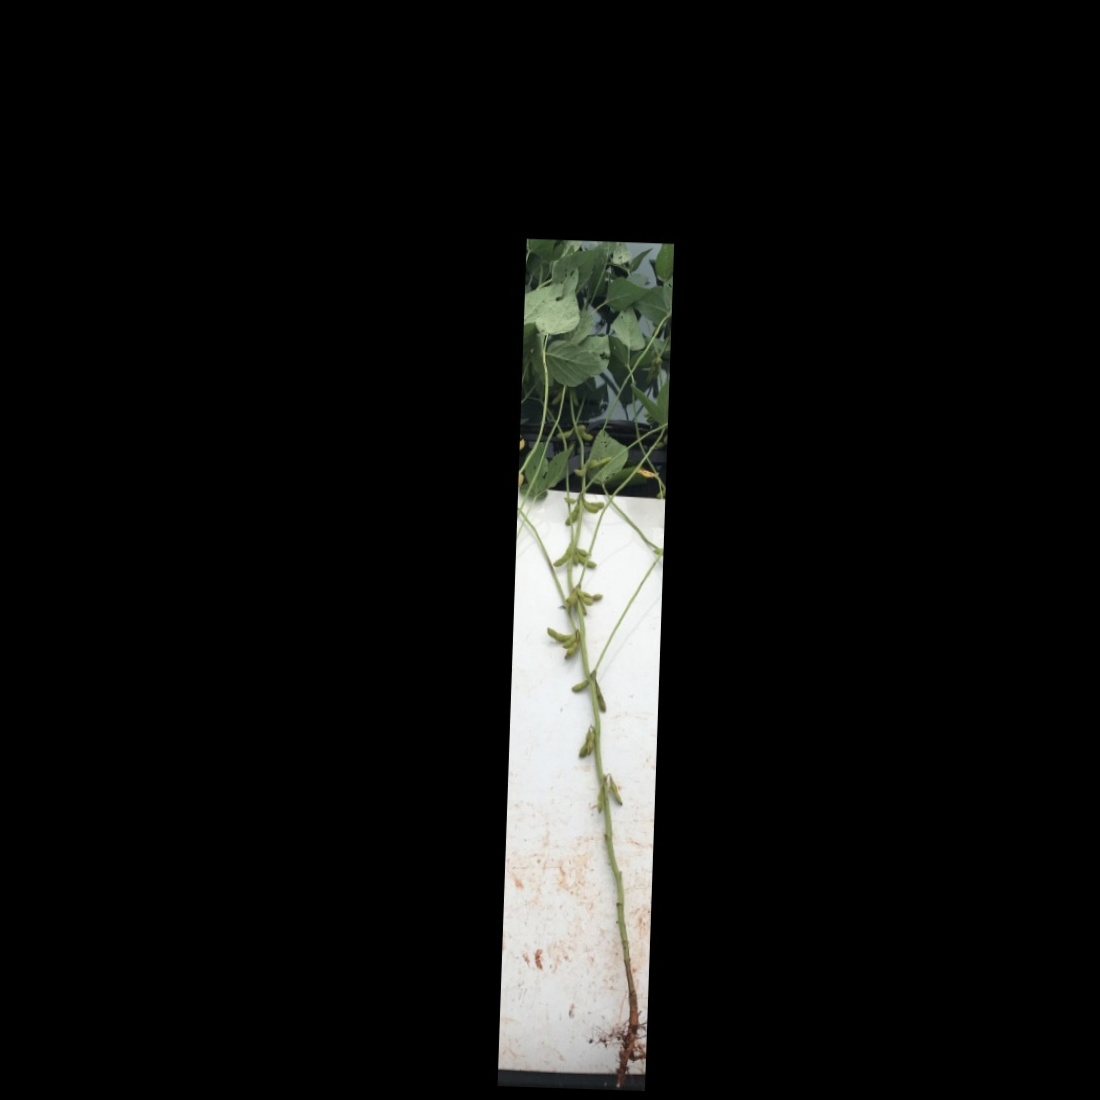pod: (548, 543, 571, 570), (564, 674, 592, 696), (607, 774, 625, 809), (562, 498, 580, 527), (559, 631, 582, 652), (551, 427, 577, 445), (562, 639, 579, 662)
soy: (503, 243, 666, 1076)
